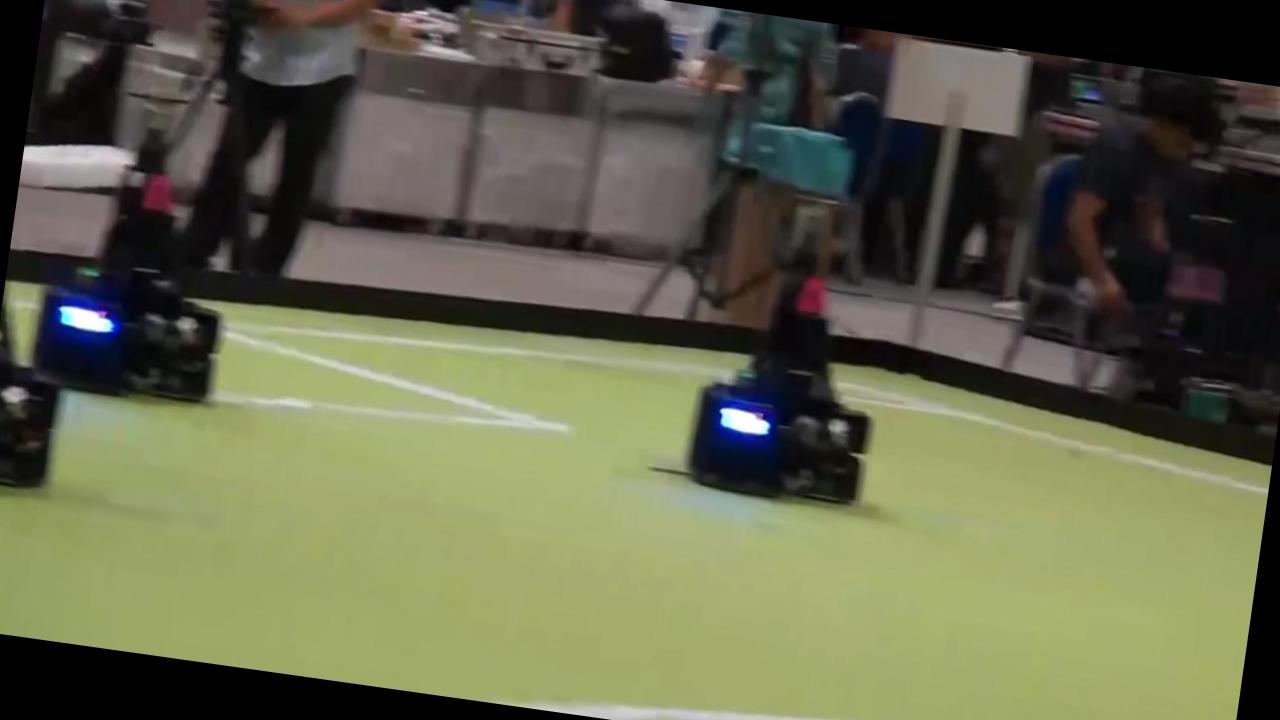robot: (33, 130, 220, 400), (688, 251, 871, 503)
